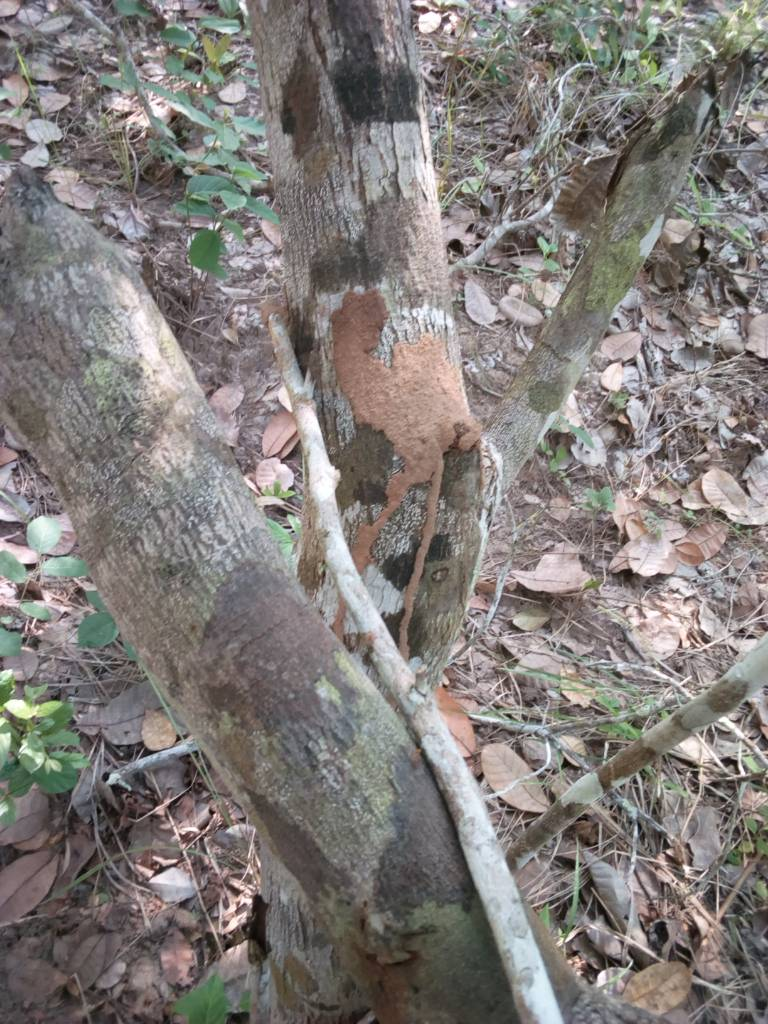Termites: (332, 282, 477, 535)
